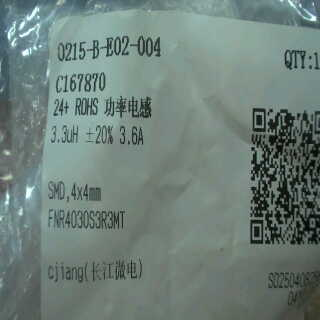3.3uH: (48, 119, 81, 152)
